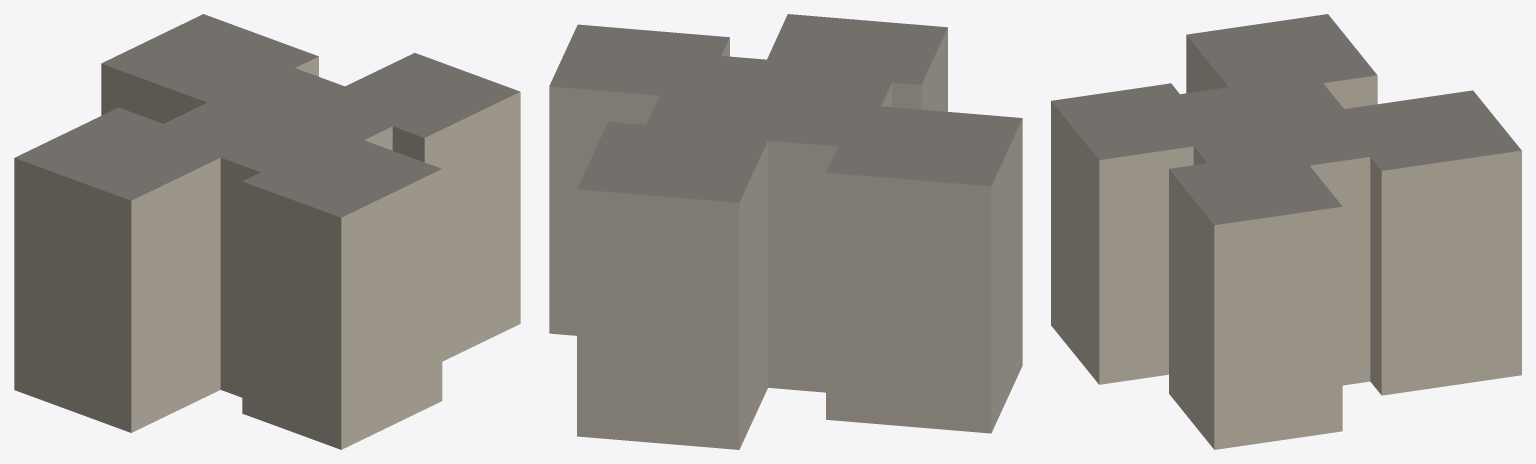
3 renders of one model, left to right at view 1: azimuth 30°, elevation 25°; view 2: azimuth 150°, elevation 25°; view 3: azimuth 270°, elevation 25°, orthographic. The views are drawn at different scales.
Visible parts, largest first — view 1: HP-w1286957258; view 2: HP-w1286957258; view 3: HP-w1286957258.
Part boxes in pixels (x1,y1,x2,y2): HP-w1286957258: (14,14,520,449); HP-w1286957258: (549,14,1022,449); HP-w1286957258: (1051,14,1521,449).
Size of the model in its own units: 36.29 by 18 by 34.17.
